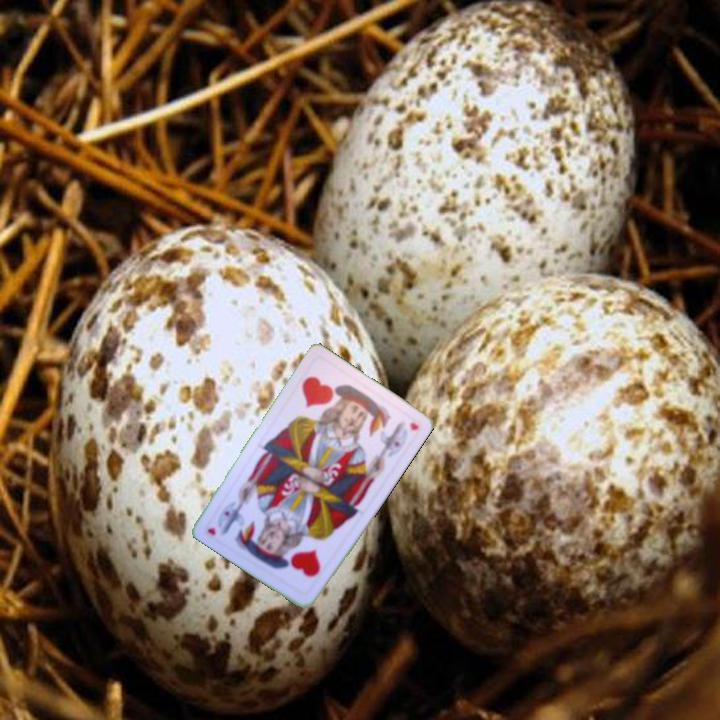h_j.png: (286, 354, 372, 438), (252, 516, 337, 599)
